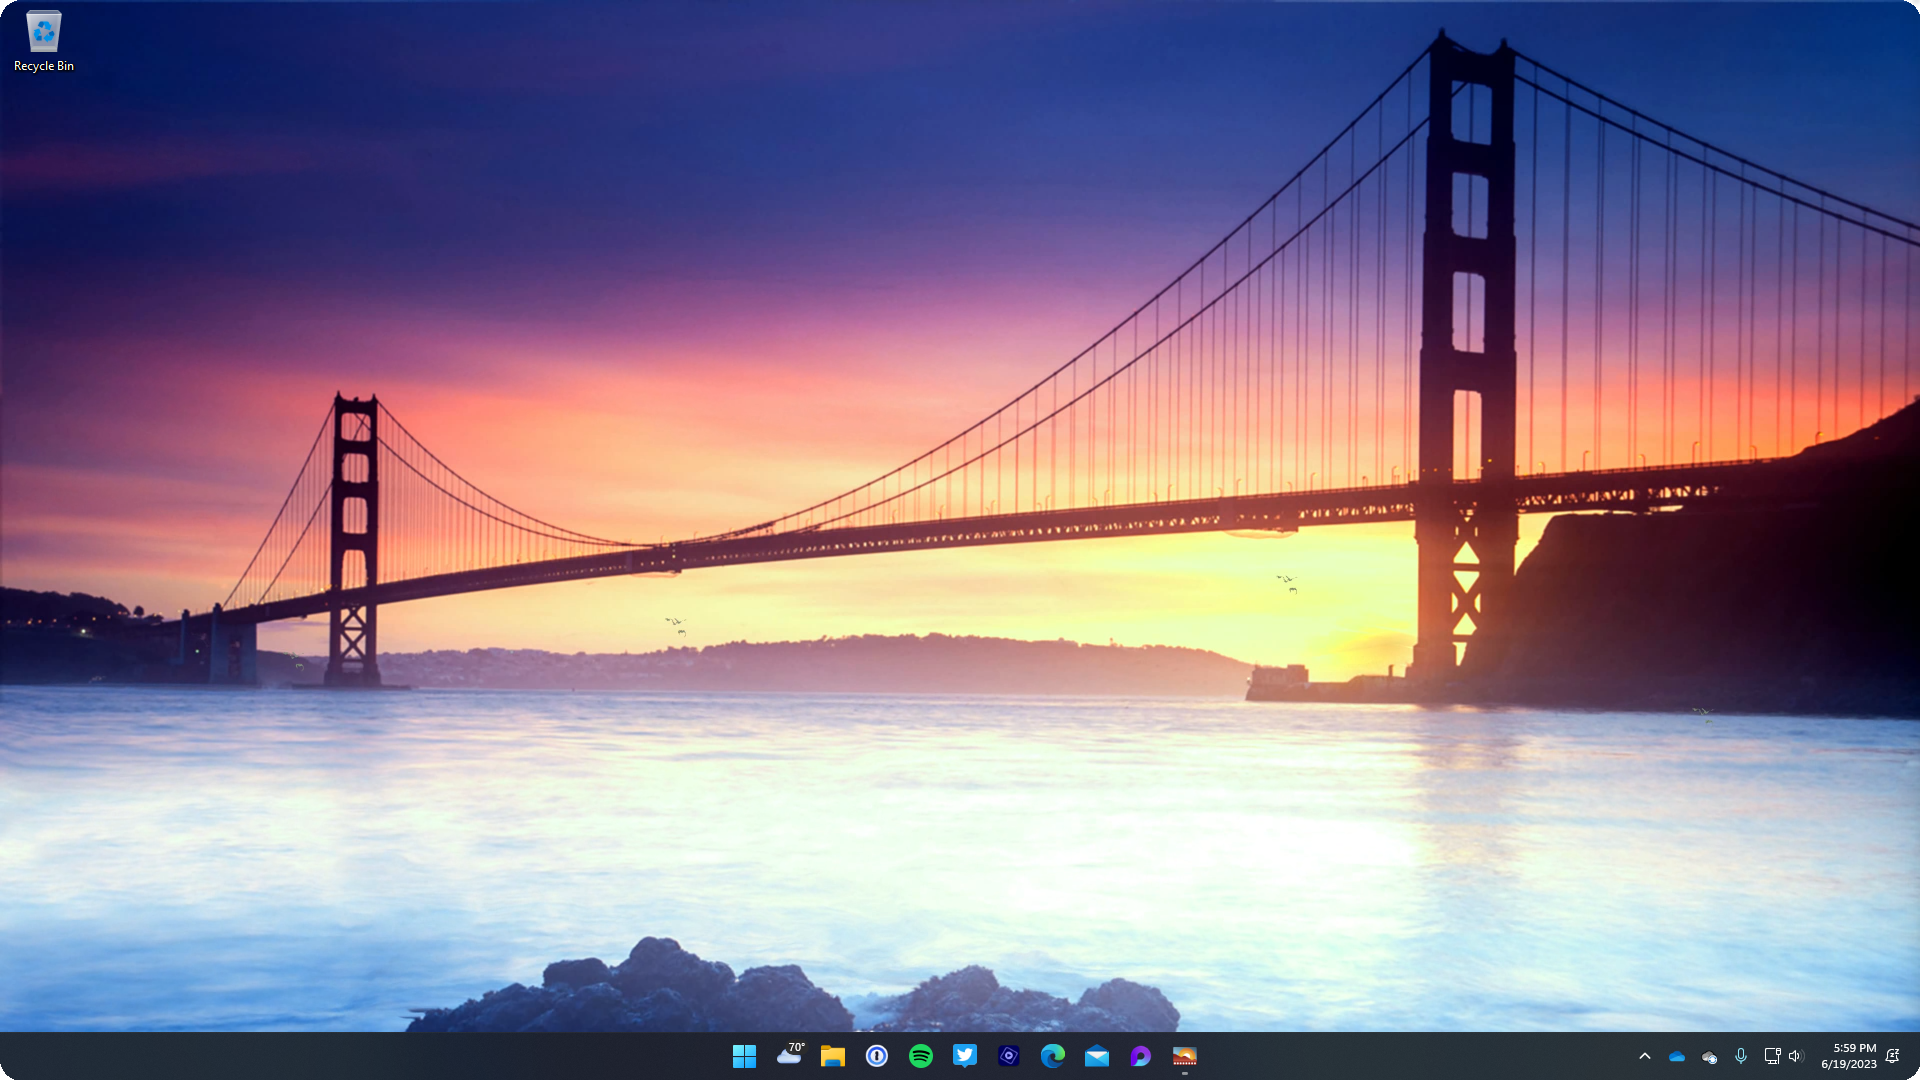start_bar: (725, 1039, 764, 1075)
